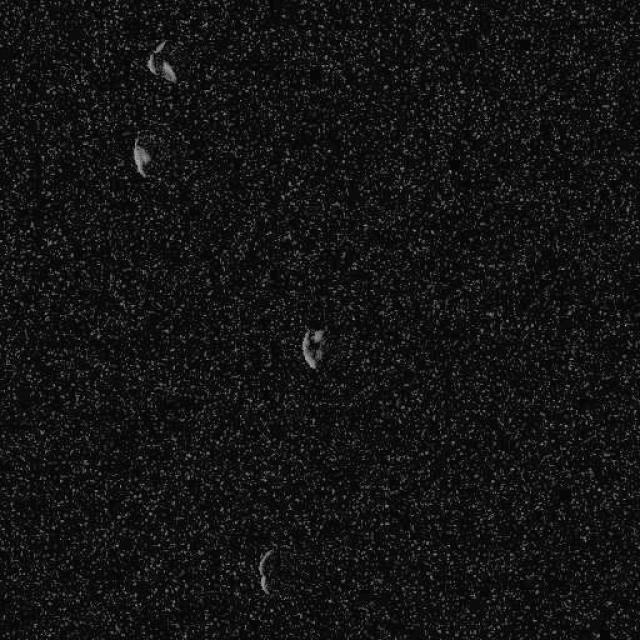D2: (145, 38, 177, 84), (300, 326, 326, 370), (256, 546, 276, 596), (130, 142, 151, 178)
